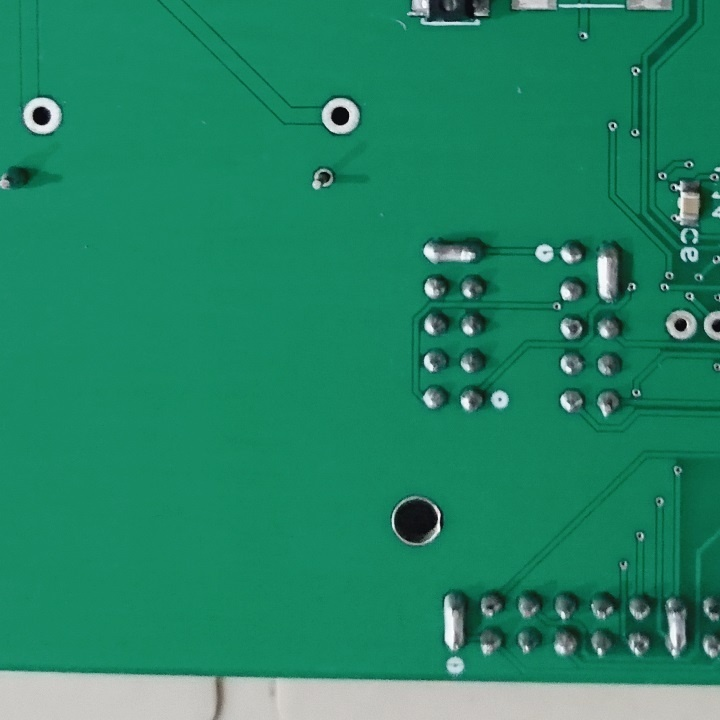F: (317, 95, 364, 138), (20, 94, 64, 135), (664, 307, 698, 343), (309, 163, 337, 197), (702, 307, 720, 345)
P: (418, 237, 490, 269), (439, 581, 470, 655), (594, 238, 625, 306), (661, 591, 691, 660)
